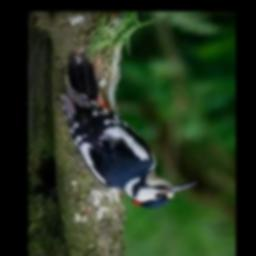Woodpecker: (60, 50, 197, 209)
